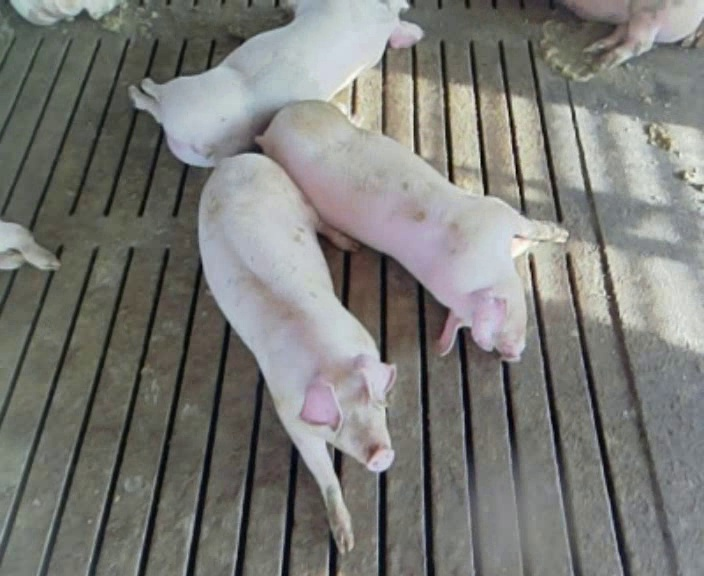pig: (199, 154, 394, 552), (129, 2, 422, 166)
